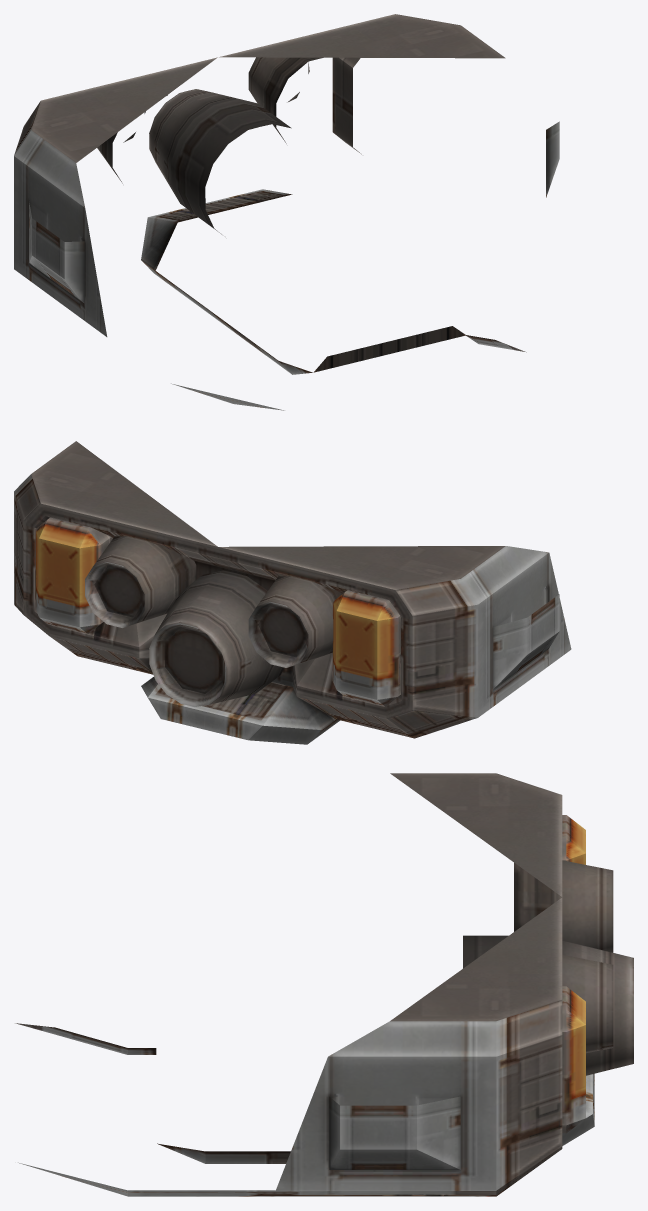
File: engine_hgn_explorer_03_ion_01_t1.glb
The picture shows the model from 3 angles, top to bottom: view 1: azimuth 30°, elevation 25°; view 2: azimuth 150°, elevation 25°; view 3: azimuth 270°, elevation 25°; orthographic projection. The views are drawn at different scales.
Visible parts, largest first — view 1: hgn_fs_explorer_03_engine_s; view 2: hgn_fs_explorer_03_engine_s; view 3: hgn_fs_explorer_03_engine_s.
Boxes of the visible parts, <box> form: hgn_fs_explorer_03_engine_s: <box>14,14,559,410</box>; hgn_fs_explorer_03_engine_s: <box>14,441,571,744</box>; hgn_fs_explorer_03_engine_s: <box>15,773,633,1196</box>.
Bounding box in the file's own units: 2.52 × 0.9162 × 2.31.
1 material, 1 textured.
